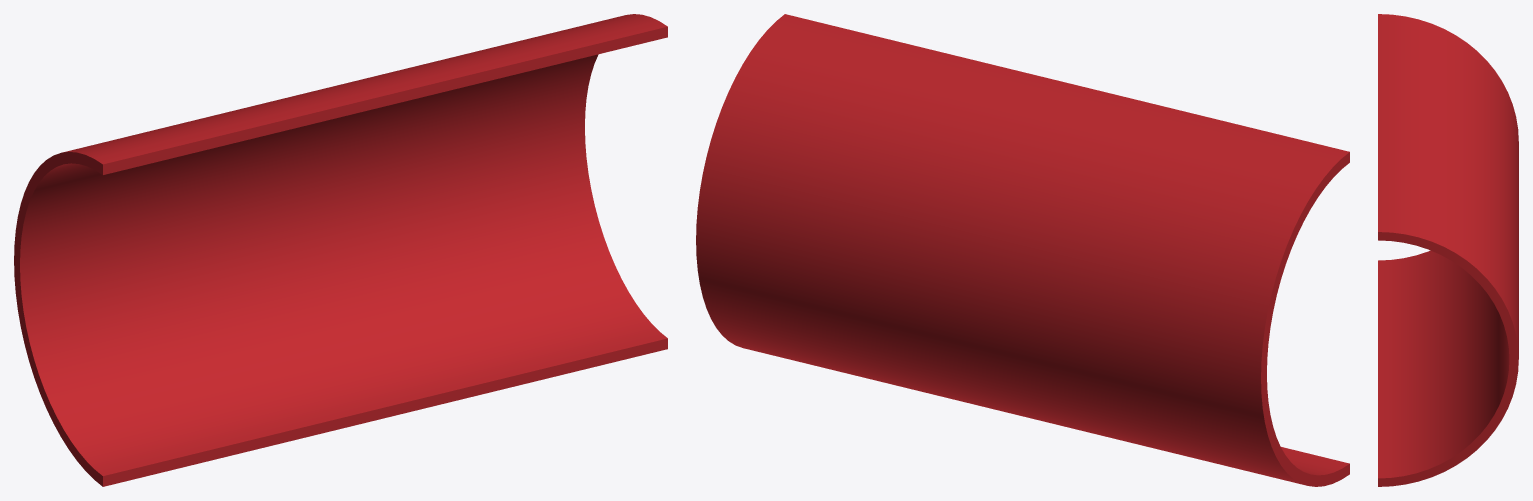
Rendered from decanter_centrifuge_pressure.glb.
3 views of the same model, side by side, from view 1: azimuth 30°, elevation 25°; view 2: azimuth 150°, elevation 25°; view 3: azimuth 270°, elevation 25° (orthographic). The views are drawn at different scales.
Parts seen in each view (by area): view 1: press__back; view 2: press__back; view 3: press__back.
Boxes of the visible parts, x1,y1,x2,y2 form: press__back: [14, 14, 667, 486]; press__back: [696, 14, 1349, 486]; press__back: [1378, 14, 1518, 486].
Bounding box in the file's own units: 1.1 × 0.6 × 0.3.
